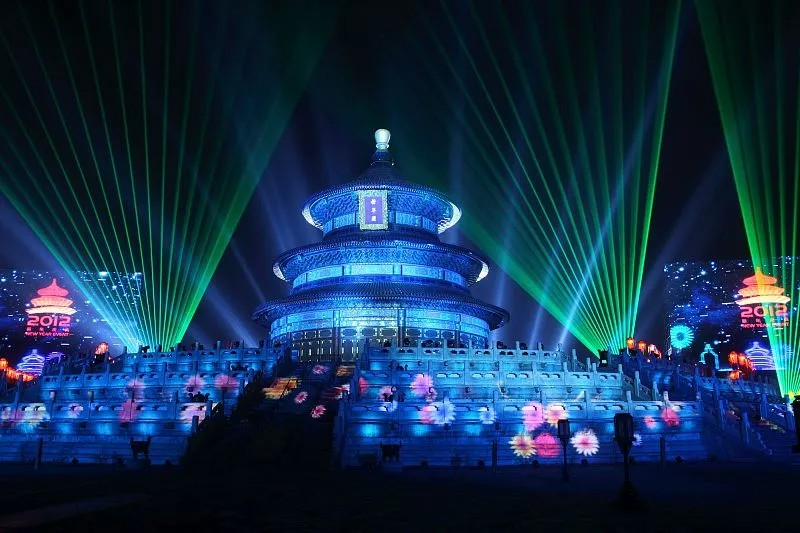Heaven: (249, 127, 512, 362)
